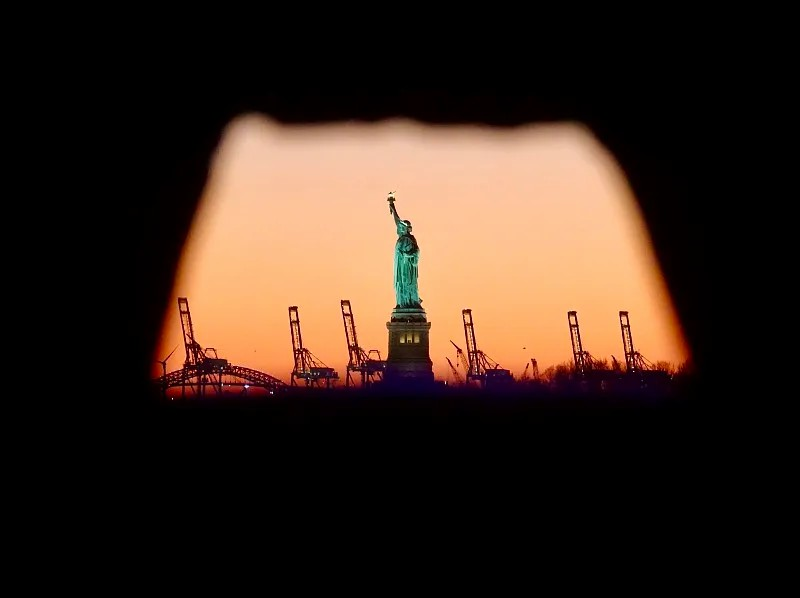SL: (382, 190, 434, 380)
